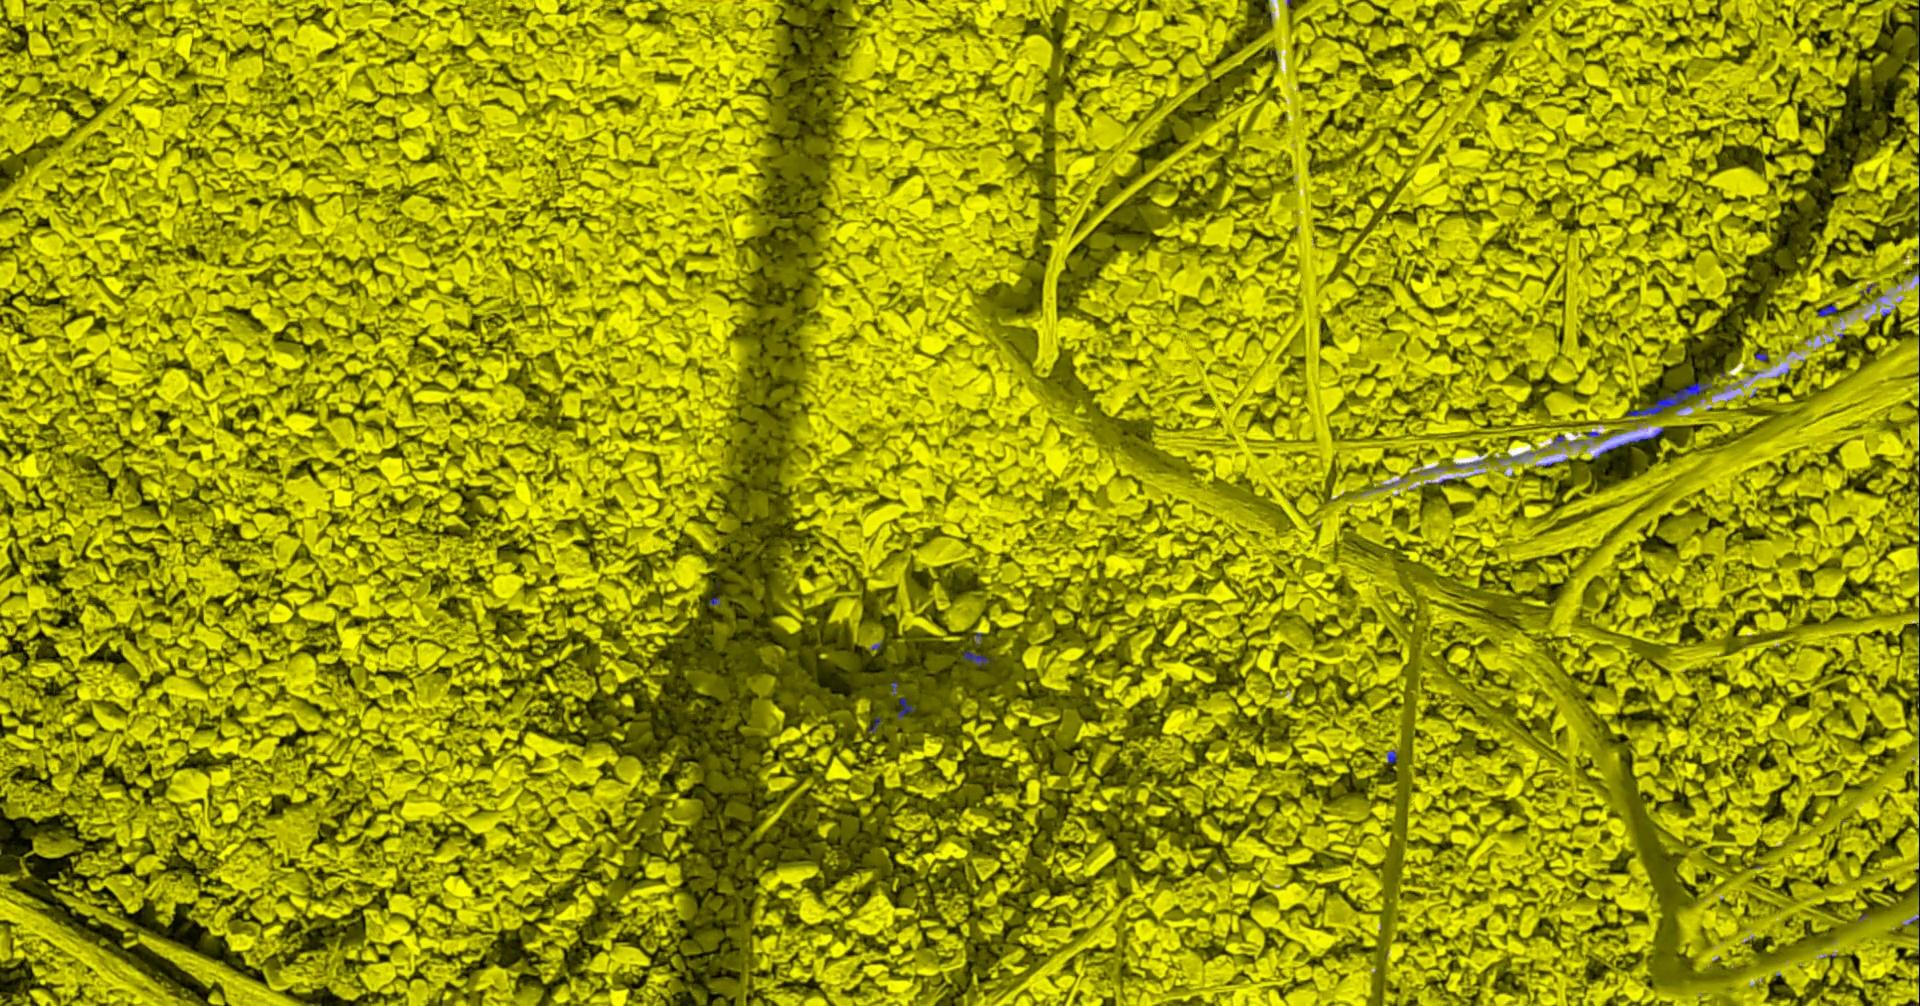ant: (1627, 381, 1710, 415), (1592, 427, 1663, 459), (963, 650, 993, 666), (897, 697, 914, 719), (1817, 304, 1837, 316), (1385, 749, 1396, 763)
